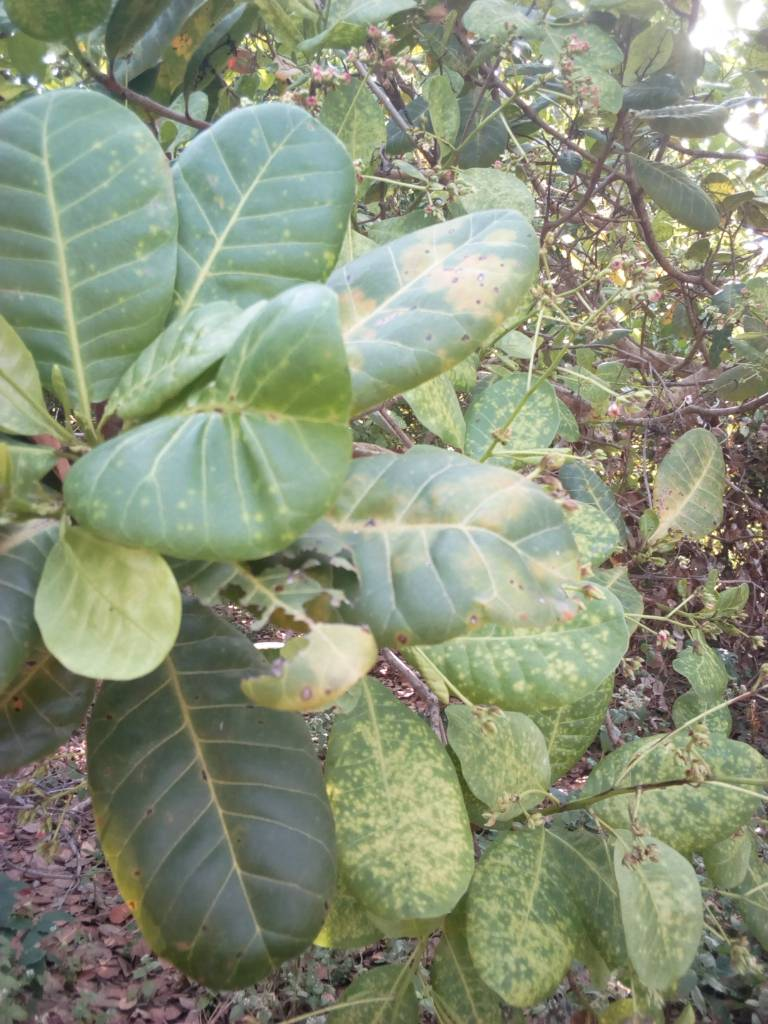Carence minérale: (68, 294, 393, 588), (146, 75, 418, 399), (1, 78, 194, 402), (319, 452, 644, 641), (316, 666, 504, 916), (340, 214, 579, 405), (465, 825, 613, 1010), (598, 730, 767, 850), (611, 836, 729, 996)
